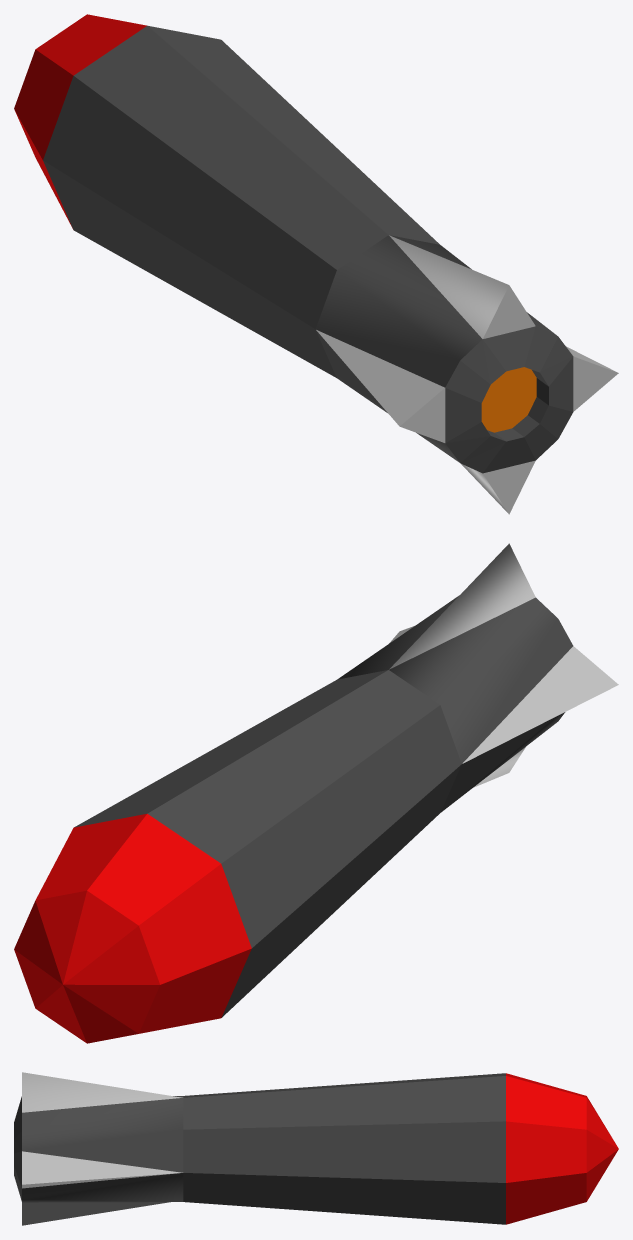
The model's file is rocket.fbx.
3 views of the same model, one above another, from view 1: azimuth 30°, elevation 25°; view 2: azimuth 150°, elevation 25°; view 3: azimuth 270°, elevation 25° (orthographic). The views are drawn at different scales.
Visible parts, largest first — view 1: Cylinder.005; view 2: Cylinder.005; view 3: Cylinder.005.
Boxes of the visible parts, x1,y1,x2,y2 form: Cylinder.005: (14, 14, 618, 514); Cylinder.005: (14, 543, 618, 1043); Cylinder.005: (14, 1072, 618, 1225).
Size of the model in its own units: 210 by 210 by 750.
